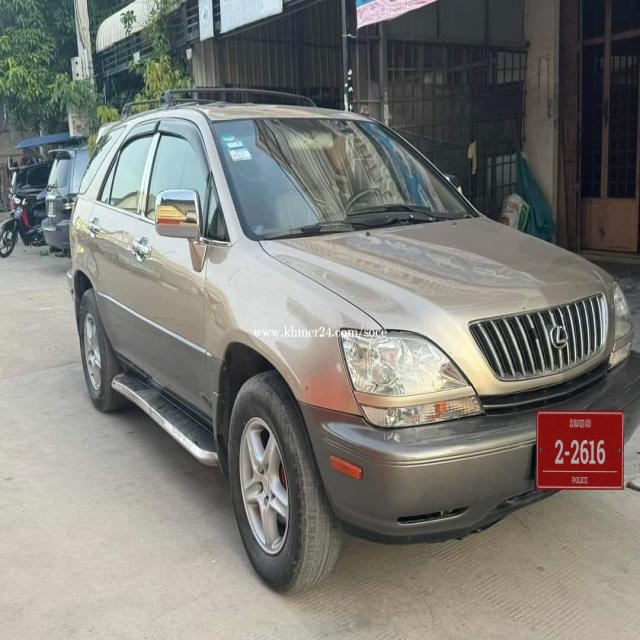Plate Number: (536, 410, 625, 490)
